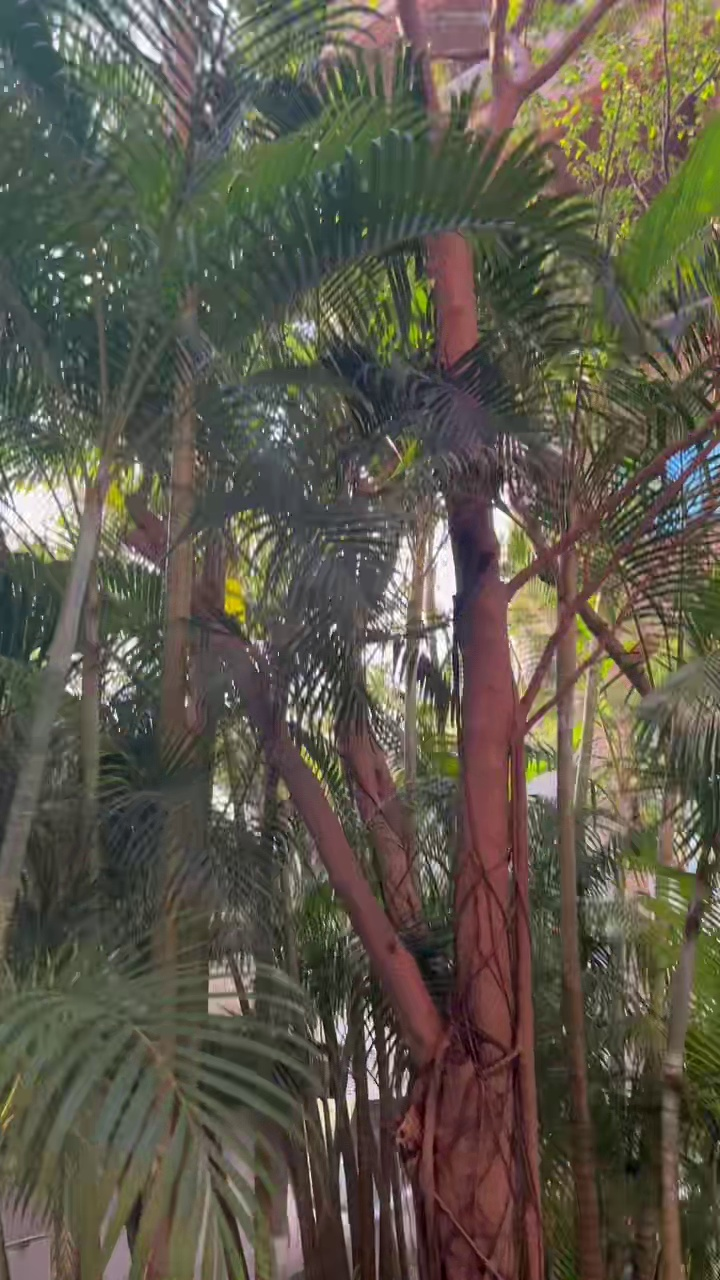Ficus benjamina: (238, 0, 616, 1279)
